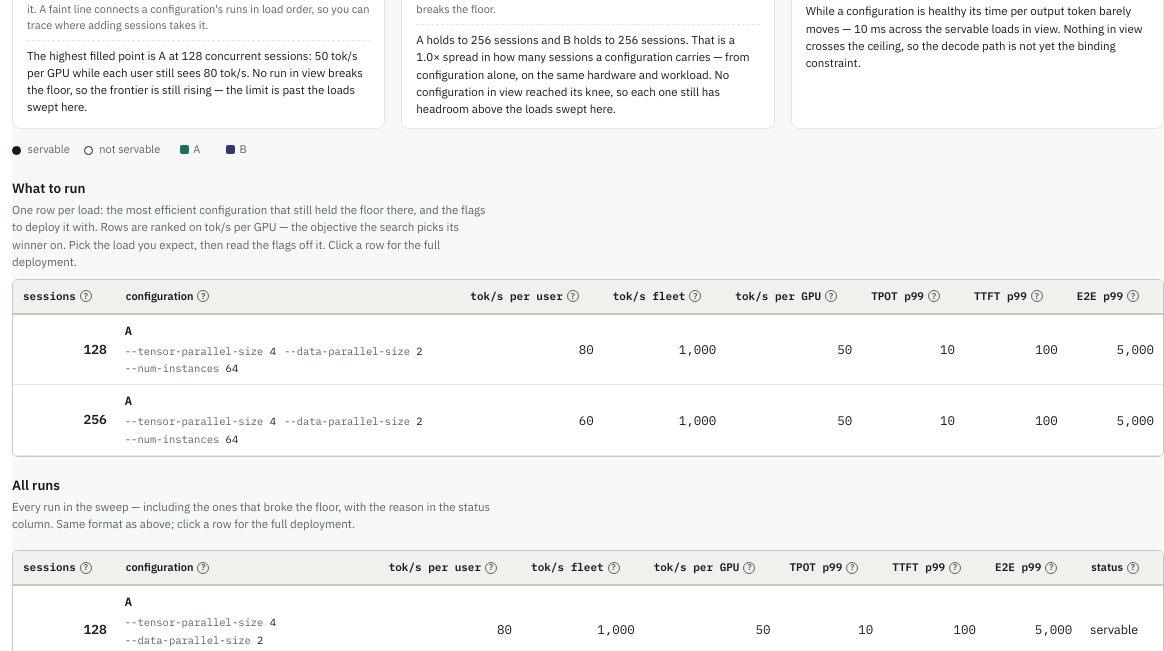
Test: ScenarioDetail › #9 header terms open a hover/focus tooltip showing the description
(page scrolled)
Hover over the button with class "hcol" at (664, 296), box x1=613 y1=288 x2=715 y2=305
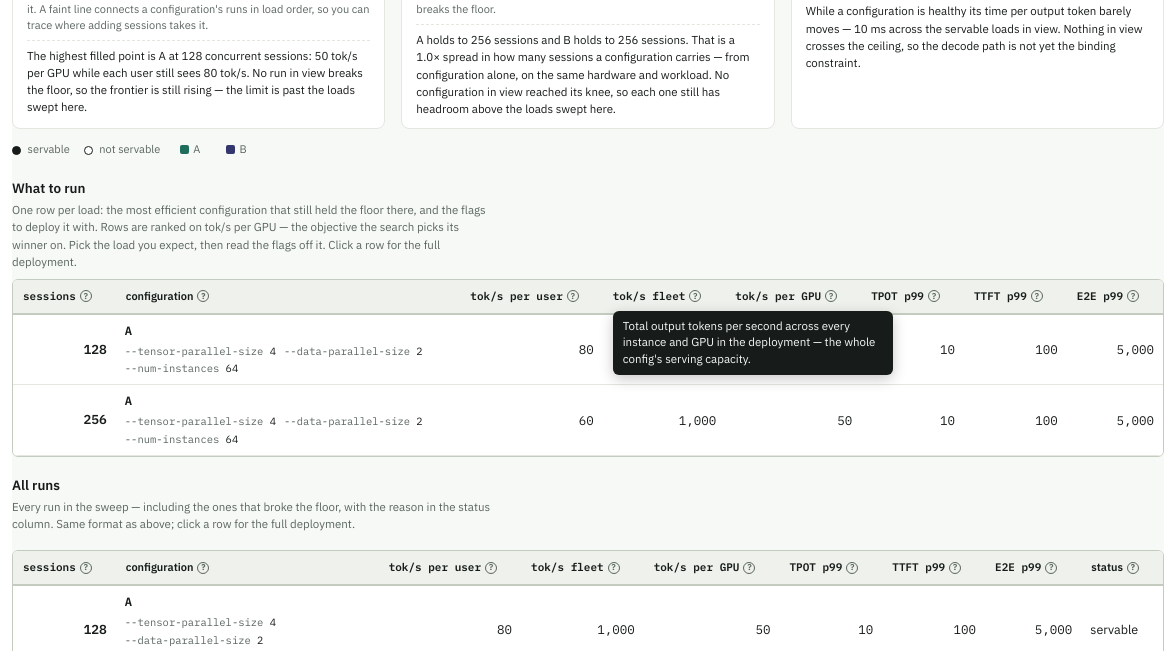
Now the tooltip with class "hcol-pop" shows "serving capacity", box x1=623 y1=318 x2=876 y2=366
Move the pointer off the button with class "hcol", box x1=613 y1=288 x2=715 y2=305
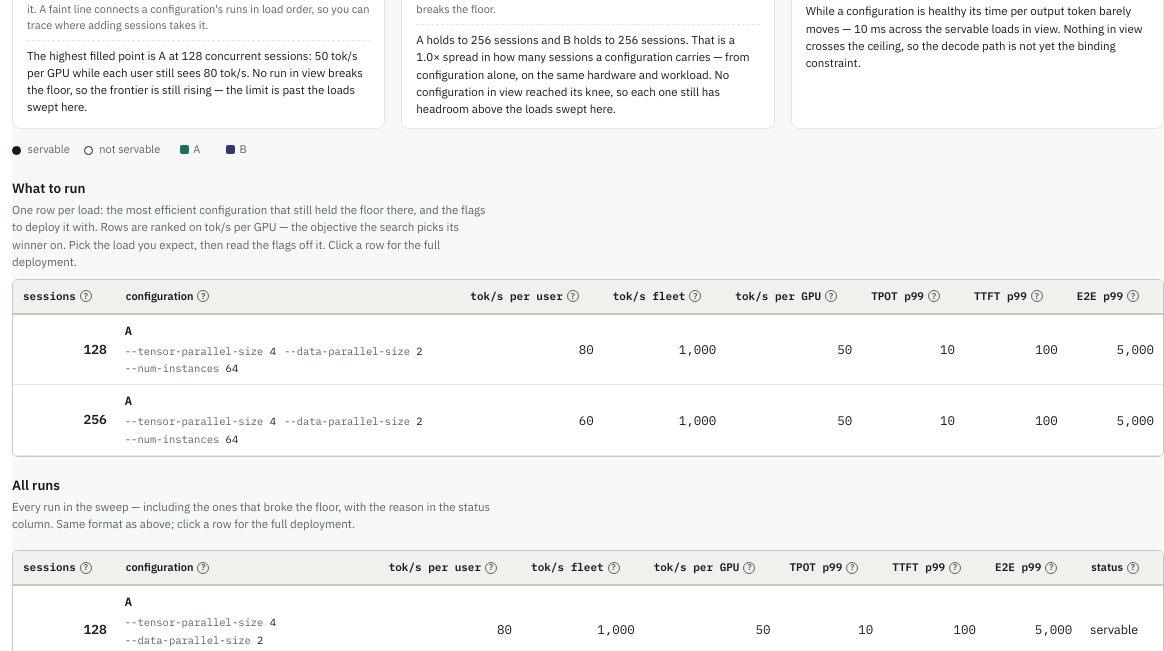
Now the tooltip with class "hcol-pop" is gone
